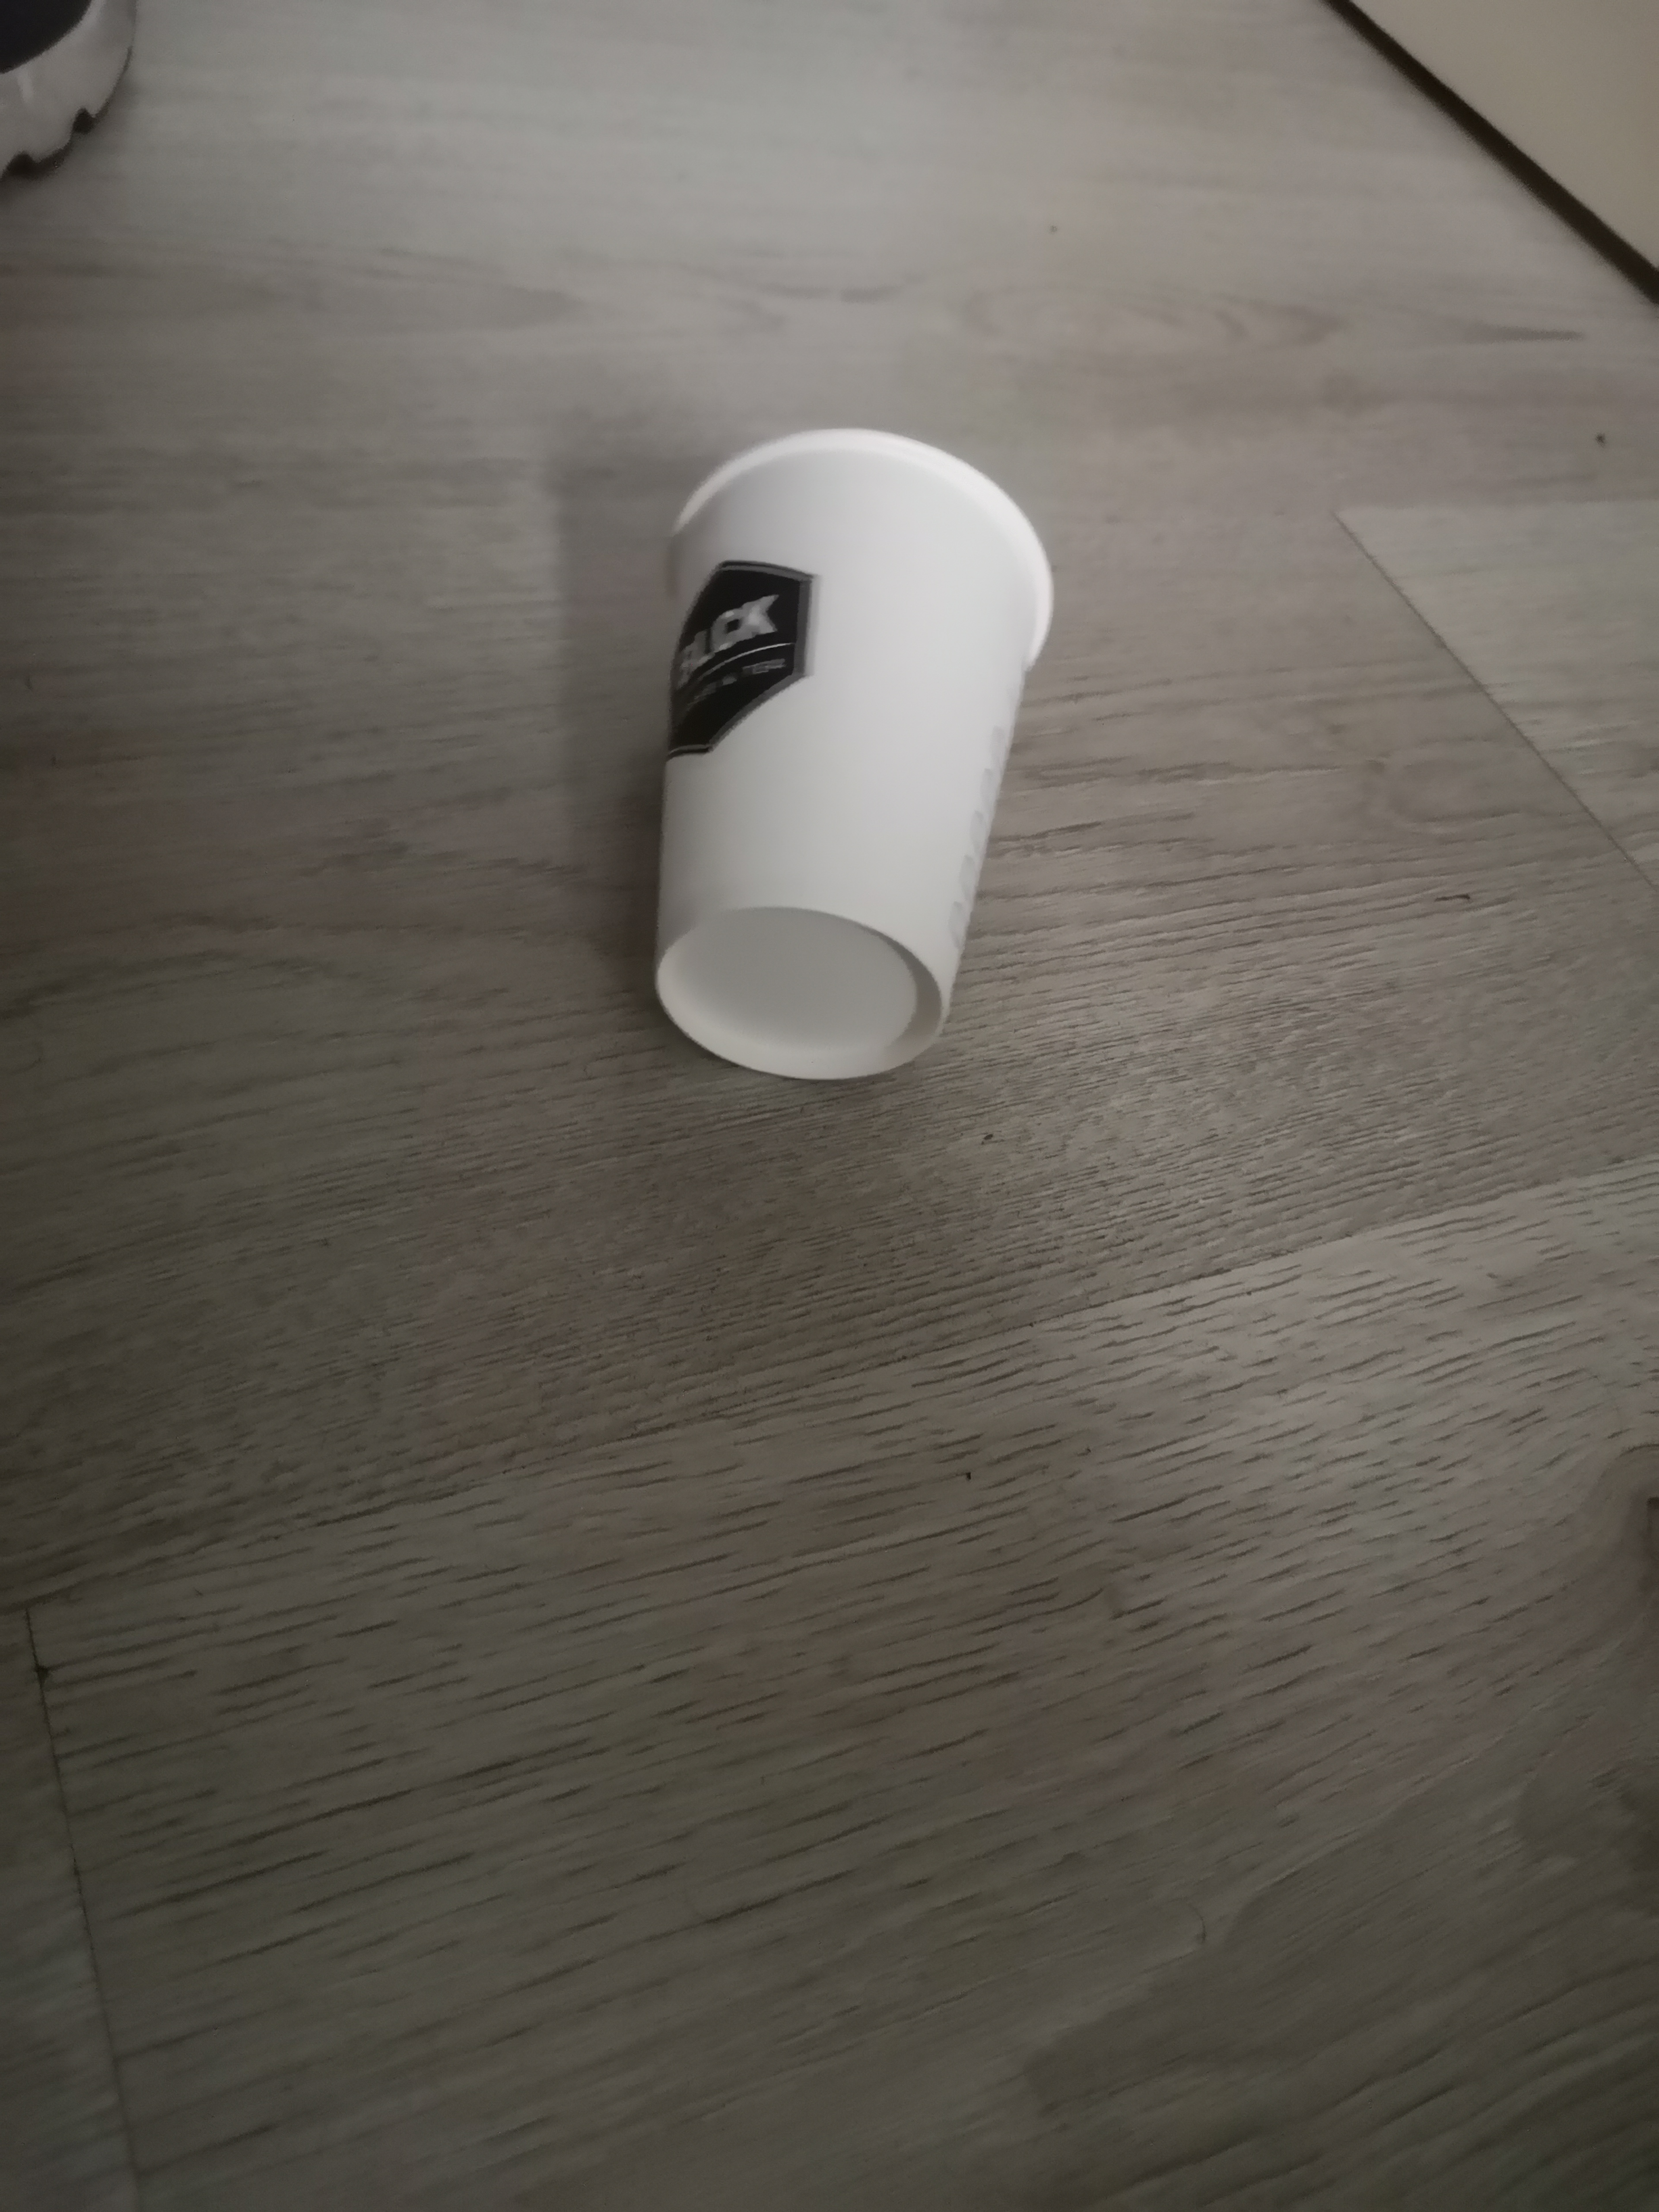cup: (615, 402, 1110, 1111)
